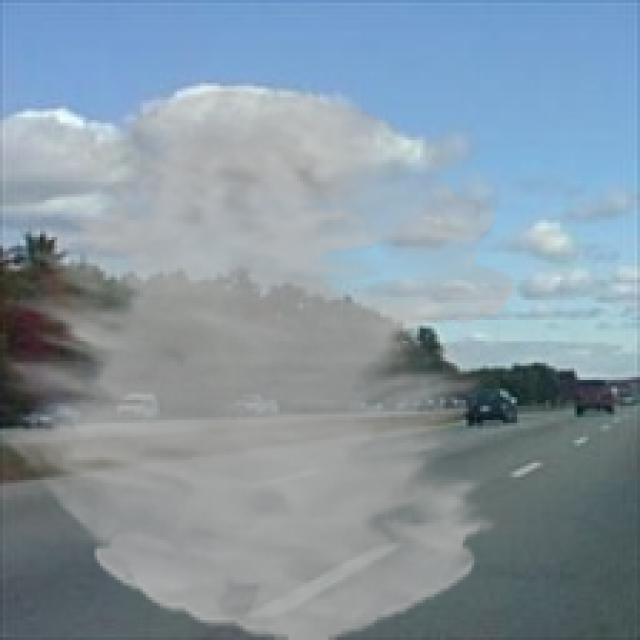Smoke: (0, 85, 517, 638)
